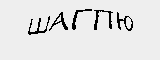А: (49, 10, 70, 30)
Г: (71, 5, 90, 29)
П: (92, 8, 113, 33)
Ш: (27, 12, 49, 37)
Ю: (114, 11, 134, 32)
